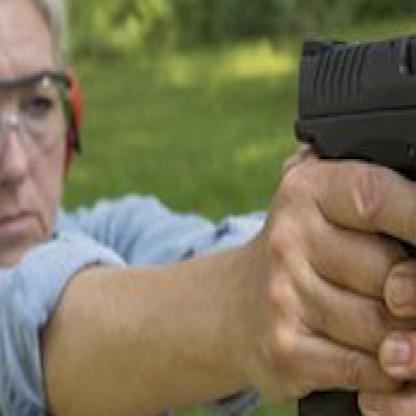gun: (262, 0, 414, 414)
